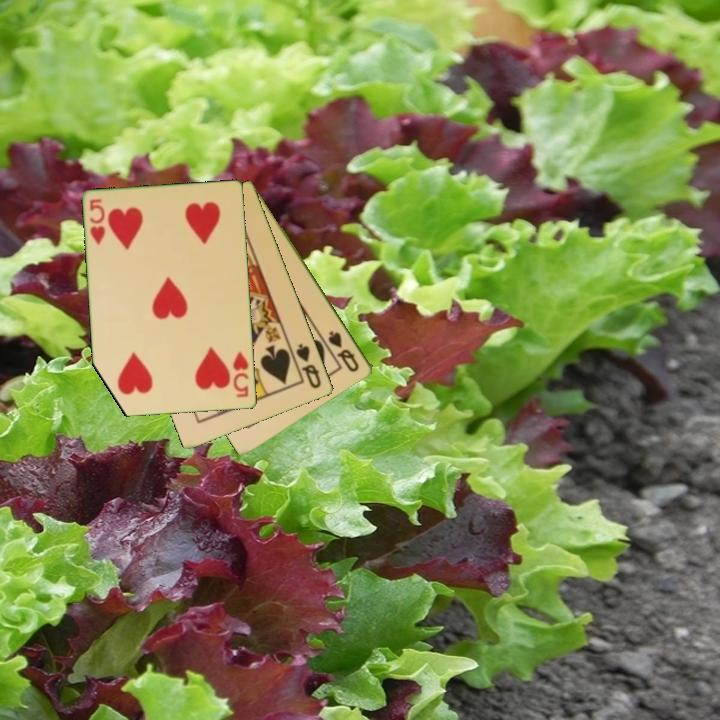5h: (230, 348, 252, 400), (86, 196, 108, 248)
Qs: (325, 327, 362, 375), (293, 340, 325, 392)
